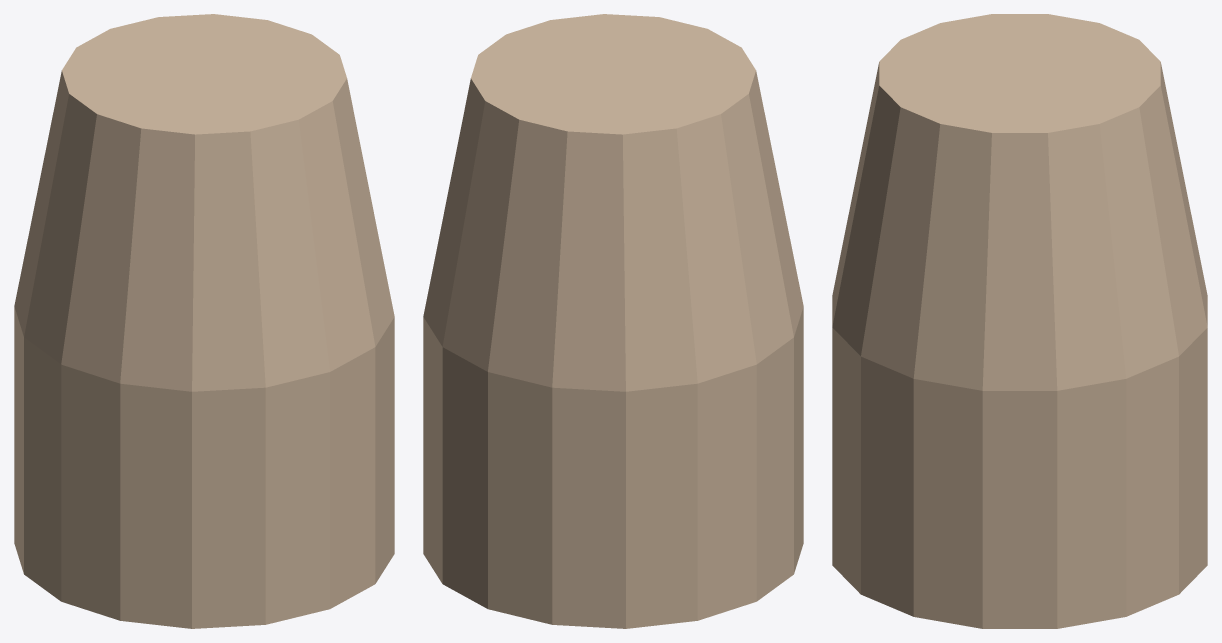
The model's file is kvant2_airlock_collider.obj.
3 views of the same model, side by side, from view 1: azimuth 30°, elevation 25°; view 2: azimuth 150°, elevation 25°; view 3: azimuth 270°, elevation 25° (orthographic).
Parts seen in each view (by area): view 1: c; view 2: c; view 3: c.
Part boxes in pixels (x1,y1,x2,y2): c: (14,14,394,628); c: (423,14,803,628); c: (832,14,1207,628).
Bounding box in the file's own units: 1.25 × 1.75 × 1.25.
